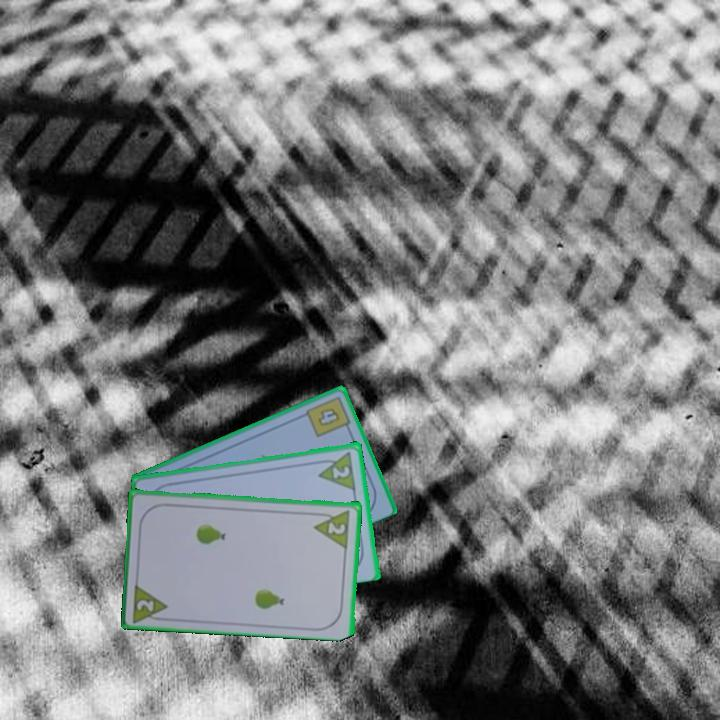2p: (129, 579, 172, 624), (329, 462, 353, 481), (325, 518, 349, 537)
4b: (302, 392, 354, 440)
